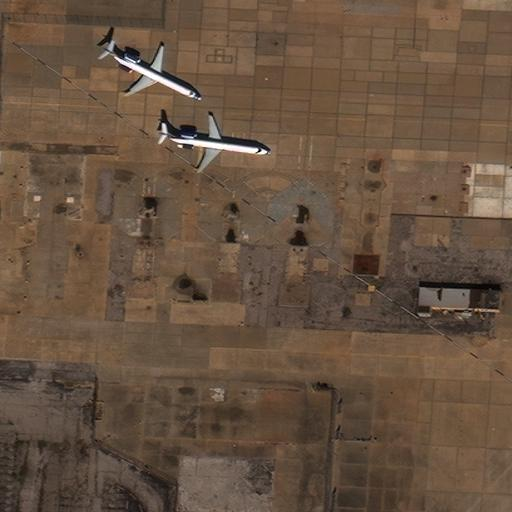Medium Civil Transport: (161, 115, 268, 172), (105, 46, 196, 98)
